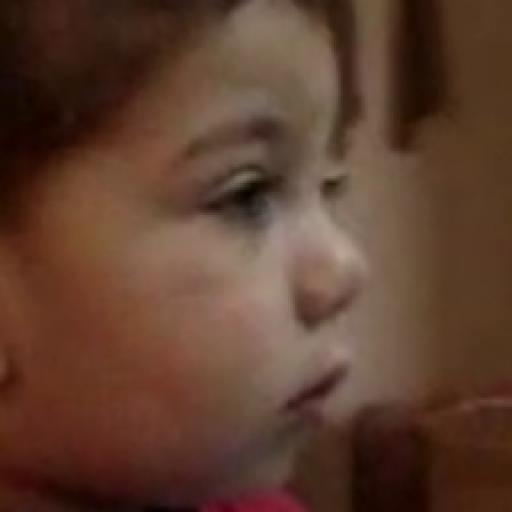Autism: (5, 0, 396, 512)
